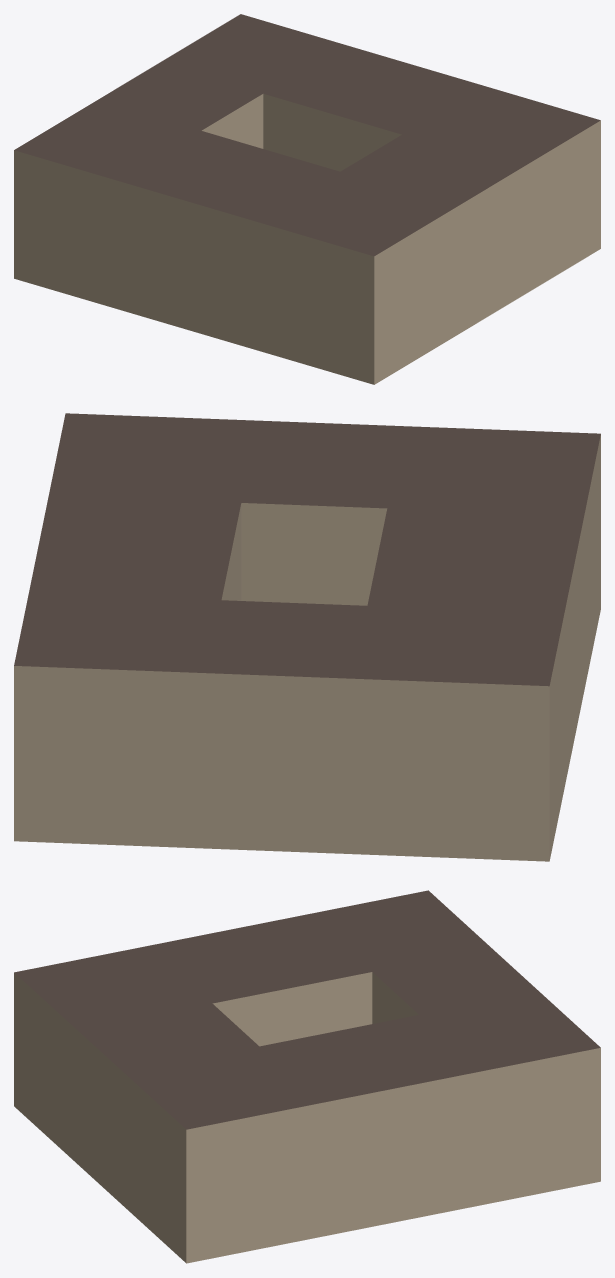
The picture shows the model from 3 angles, top to bottom: view 1: azimuth 30°, elevation 25°; view 2: azimuth 150°, elevation 25°; view 3: azimuth 270°, elevation 25°; orthographic projection. The views are drawn at different scales.
Visible parts, largest first — view 1: HP-r11759550; view 2: HP-r11759550; view 3: HP-r11759550.
Boxes of the visible parts, <box> form: HP-r11759550: <box>14,14,600,384</box>; HP-r11759550: <box>14,413,600,861</box>; HP-r11759550: <box>14,890,600,1263</box>.
Size of the model in its own units: 34.5 by 9 by 35.77.
